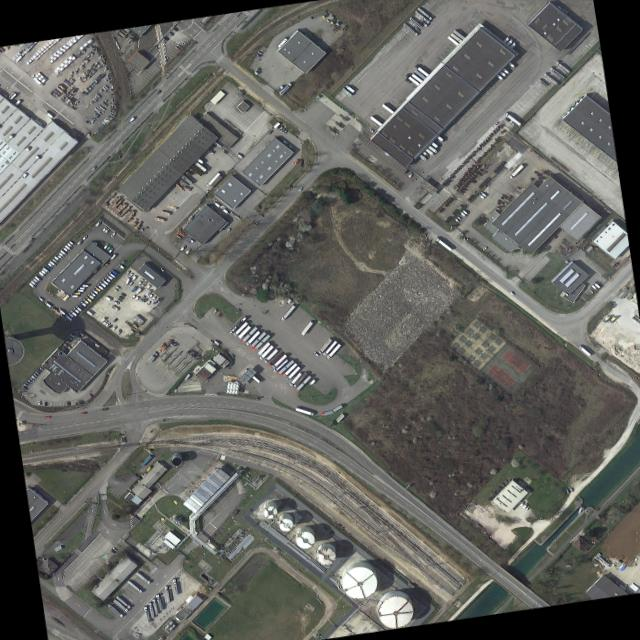large-vehicle: (228, 316, 246, 334), (322, 340, 337, 357), (325, 344, 340, 360), (232, 322, 248, 337), (258, 344, 273, 360), (267, 352, 283, 367), (271, 354, 287, 369), (281, 363, 297, 378), (292, 372, 307, 388), (280, 305, 295, 321), (317, 338, 332, 354), (504, 112, 521, 126), (106, 604, 123, 618), (434, 238, 452, 251), (245, 331, 260, 346), (285, 366, 300, 381), (112, 599, 128, 613), (126, 580, 142, 594), (262, 349, 278, 363), (272, 359, 288, 373), (508, 165, 523, 179), (205, 173, 220, 187), (115, 595, 130, 609), (288, 372, 302, 387), (548, 67, 564, 80), (278, 82, 292, 96), (402, 23, 417, 36), (414, 11, 429, 24), (543, 73, 558, 86), (135, 571, 150, 584), (416, 8, 431, 20), (294, 407, 314, 416), (554, 61, 569, 73), (405, 74, 419, 86), (414, 65, 428, 77), (154, 593, 163, 611), (142, 606, 150, 624), (578, 346, 590, 357), (147, 602, 154, 619), (171, 578, 178, 595), (163, 586, 170, 603), (151, 599, 158, 615), (600, 314, 611, 324), (248, 339, 258, 349), (341, 88, 352, 97), (606, 315, 617, 324), (320, 410, 333, 417), (240, 334, 250, 343), (252, 342, 262, 351), (276, 367, 286, 376), (294, 383, 304, 392), (424, 149, 434, 157), (427, 146, 437, 154), (344, 85, 354, 93), (537, 79, 547, 87), (325, 15, 333, 23), (253, 68, 261, 76), (276, 85, 284, 93), (591, 282, 600, 289), (196, 158, 204, 165), (418, 154, 426, 161), (495, 74, 503, 81), (501, 68, 509, 75), (212, 201, 220, 208), (205, 148, 213, 155), (57, 308, 65, 315), (64, 315, 72, 322), (108, 254, 116, 261), (307, 379, 315, 386), (320, 13, 329, 19), (144, 290, 151, 297), (136, 279, 143, 286), (134, 288, 141, 295), (152, 298, 159, 305), (111, 305, 118, 312), (329, 18, 336, 25), (506, 39, 513, 46), (96, 284, 103, 291), (183, 374, 190, 381), (63, 245, 71, 251), (41, 267, 49, 273), (498, 71, 506, 77), (507, 62, 515, 68), (221, 209, 229, 215), (84, 297, 92, 303), (98, 282, 106, 288), (107, 272, 115, 278), (37, 271, 44, 277), (138, 296, 145, 302), (140, 281, 146, 288), (59, 250, 66, 256), (48, 261, 55, 267), (98, 318, 105, 324), (590, 285, 597, 291), (184, 248, 190, 255), (33, 276, 40, 282), (31, 278, 38, 284), (235, 153, 242, 159), (421, 151, 428, 157), (509, 42, 516, 48), (503, 36, 509, 43), (28, 283, 35, 289), (44, 302, 51, 308), (69, 311, 76, 317), (75, 306, 82, 312), (87, 294, 94, 300), (292, 159, 299, 165), (101, 279, 108, 285), (212, 340, 219, 346), (332, 22, 339, 28), (124, 278, 129, 286), (133, 296, 139, 302), (105, 245, 111, 251), (179, 245, 185, 251), (130, 287, 136, 293), (114, 330, 120, 336), (104, 277, 110, 283), (94, 221, 100, 227), (57, 253, 64, 258), (53, 256, 60, 261), (40, 270, 47, 275), (79, 302, 86, 307), (91, 290, 98, 295), (93, 287, 100, 292), (110, 270, 117, 275), (130, 276, 136, 281), (37, 297, 43, 302), (62, 248, 68, 253), (66, 243, 72, 248), (68, 241, 74, 246), (51, 259, 57, 264), (47, 263, 53, 268), (45, 265, 51, 270), (144, 285, 150, 290), (462, 210, 468, 215), (460, 213, 466, 218), (480, 192, 486, 197), (110, 326, 116, 331), (478, 194, 484, 199), (89, 292, 95, 297), (30, 281, 36, 286), (67, 313, 73, 318), (72, 308, 78, 313), (106, 275, 112, 280), (117, 264, 123, 269), (102, 244, 108, 249), (107, 248, 113, 253), (521, 504, 527, 509), (618, 564, 623, 569), (76, 240, 81, 245), (104, 228, 109, 233), (101, 227, 106, 232), (130, 295, 135, 300), (147, 294, 152, 299), (150, 297, 155, 302), (80, 284, 88, 287), (75, 289, 83, 292), (82, 300, 88, 304), (77, 287, 84, 290), (72, 292, 79, 295), (70, 295, 77, 298), (454, 219, 459, 223), (188, 239, 193, 243), (517, 500, 522, 504), (519, 502, 524, 506), (82, 236, 86, 240)
small-vehicle: (239, 316, 246, 323), (104, 296, 112, 302), (127, 117, 135, 123), (492, 121, 499, 127), (91, 165, 97, 171), (216, 312, 222, 318), (481, 246, 487, 252), (509, 291, 515, 297), (432, 190, 438, 196), (287, 144, 293, 150), (155, 90, 161, 96), (503, 117, 510, 122), (115, 298, 122, 303), (281, 140, 288, 145), (227, 330, 233, 335), (102, 320, 108, 325), (312, 352, 318, 357), (456, 216, 462, 221), (406, 173, 412, 178), (221, 150, 227, 155), (127, 273, 133, 278), (111, 318, 117, 323), (104, 322, 110, 327), (231, 326, 237, 331), (414, 27, 420, 32), (564, 488, 569, 494), (111, 547, 117, 552), (109, 549, 115, 554), (106, 324, 112, 329), (28, 377, 34, 382), (109, 233, 115, 238), (167, 32, 173, 37), (267, 130, 273, 135), (112, 301, 119, 305), (128, 329, 133, 334), (145, 301, 150, 306), (212, 309, 217, 314), (588, 289, 593, 294), (509, 121, 514, 126), (297, 187, 302, 192), (225, 228, 230, 233), (113, 288, 118, 293), (127, 282, 132, 287), (125, 271, 130, 276), (568, 487, 573, 492), (524, 506, 529, 511), (23, 383, 28, 388), (30, 375, 35, 380), (32, 373, 37, 378), (87, 393, 92, 398), (280, 128, 285, 133), (282, 130, 287, 135), (119, 293, 125, 297), (24, 382, 30, 386), (255, 53, 261, 57), (26, 380, 32, 384), (69, 334, 75, 338), (114, 286, 120, 290), (256, 51, 262, 55), (118, 296, 123, 300), (368, 129, 373, 133), (34, 371, 39, 375), (36, 369, 41, 373), (38, 367, 43, 371), (176, 44, 181, 48), (174, 46, 179, 50), (66, 401, 69, 407), (80, 412, 86, 415), (37, 401, 40, 406), (44, 416, 49, 419), (101, 408, 106, 411), (67, 337, 72, 340), (43, 402, 46, 406)
storage-tank: (338, 563, 379, 602), (373, 593, 415, 631), (314, 546, 337, 568), (293, 530, 316, 551), (260, 505, 278, 521), (277, 517, 294, 533)
